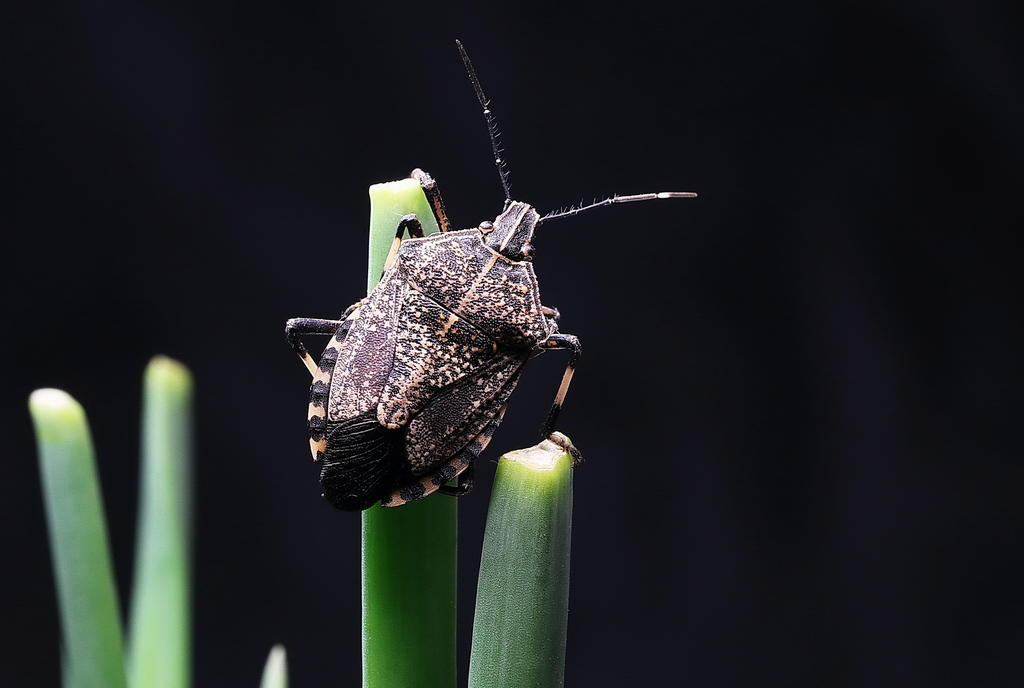chunchong: (286, 163, 598, 508)
